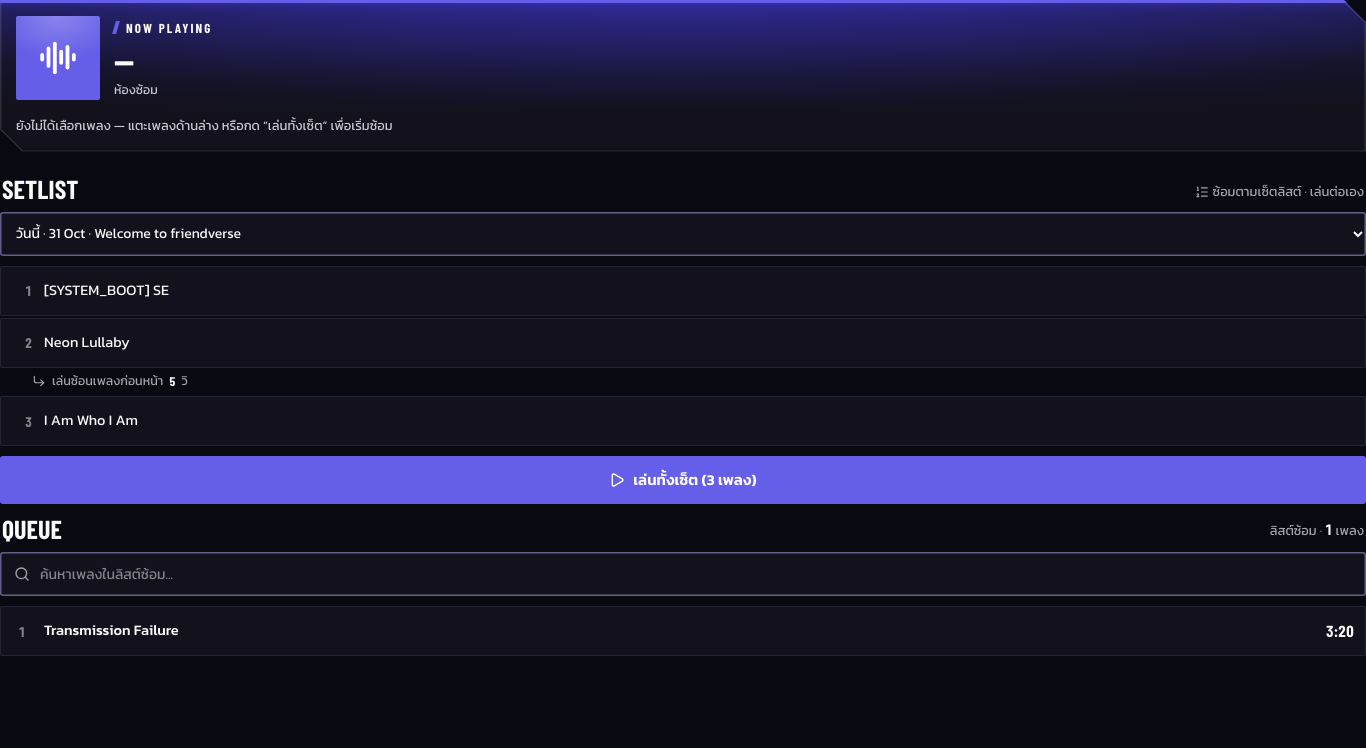
Test: PracticePlayer — เล่นซ้อน: the bar's time ends where the next song comes in › a song nothing comes in over runs its length (the next one overlaps the MC between)
Click the button "เล่นทั้งเซ็ต (3 เพลง)" at (683, 480), box [0,456,1365,504]
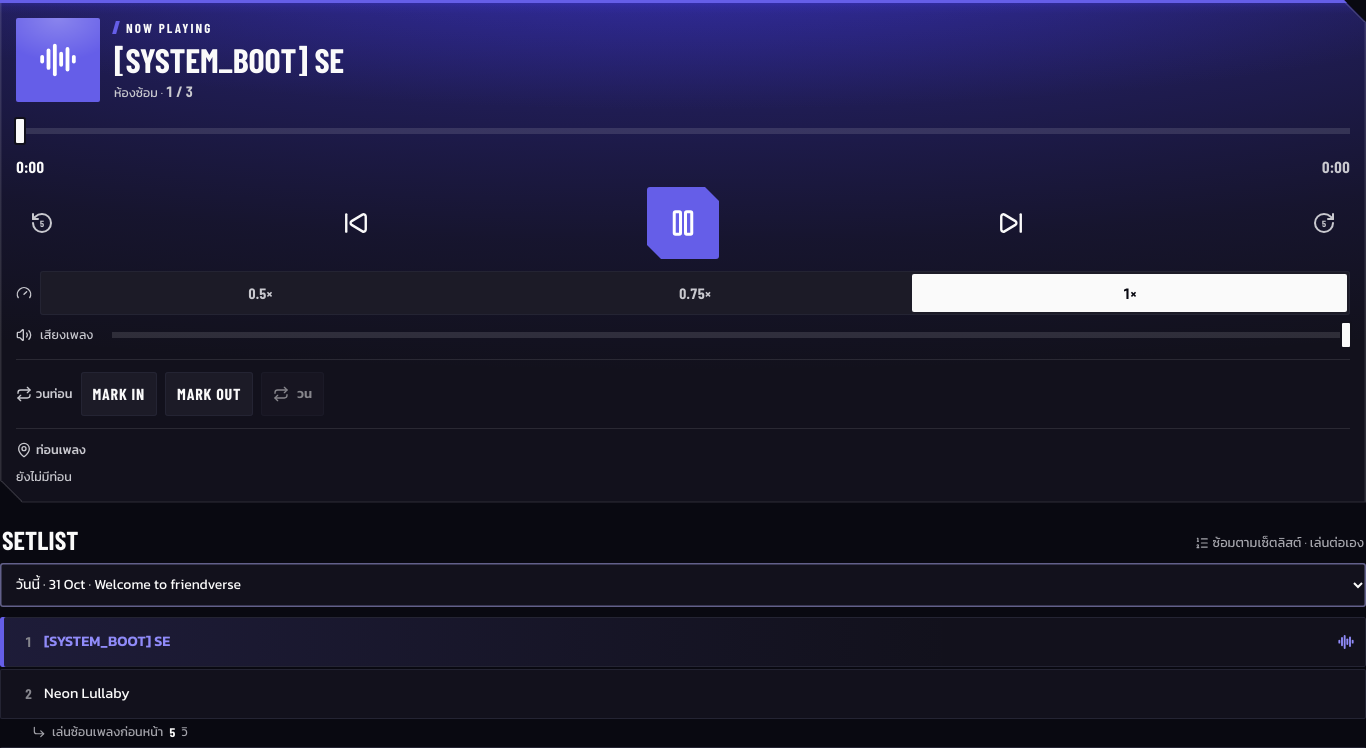
Click the button "2 Neon Lullaby" at (87, 693), box [0,668,1365,718]
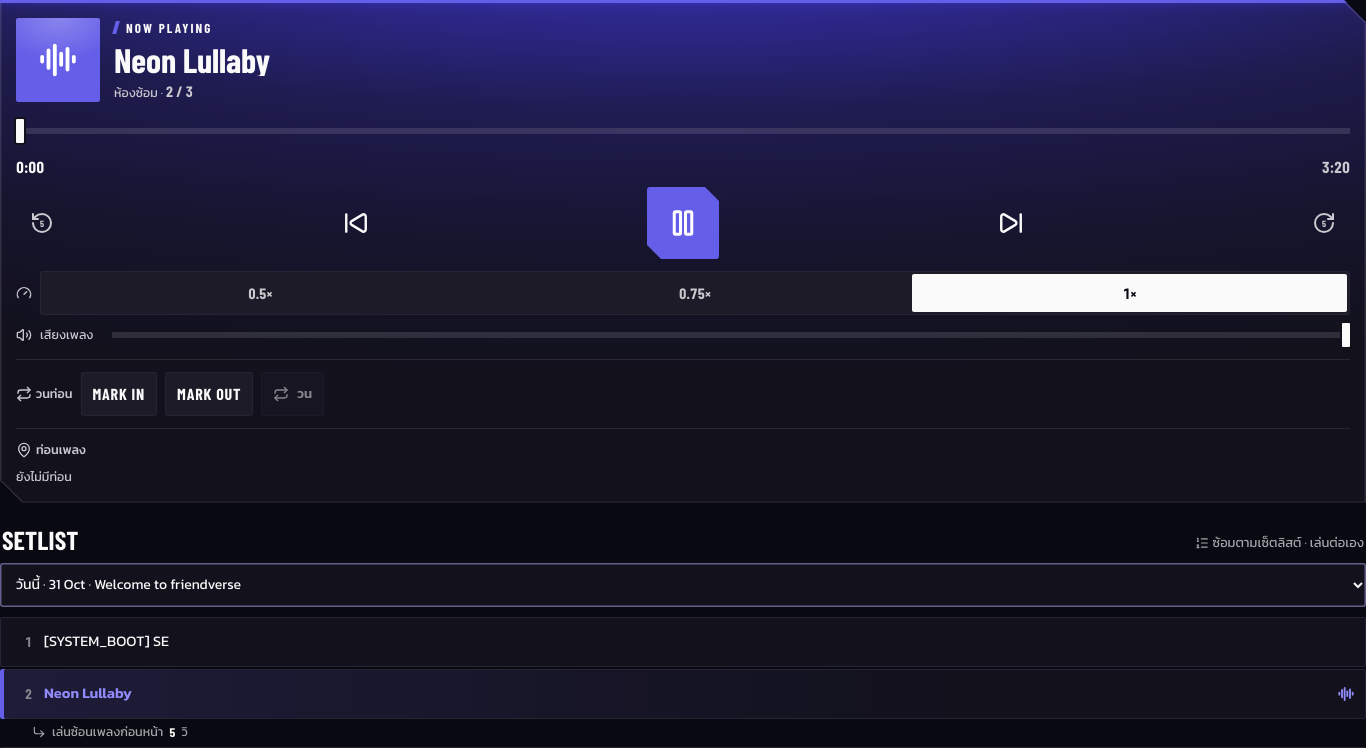
Expected: the text with test id "song-ends-at" reads "3:20", [1322,157,1350,176]
